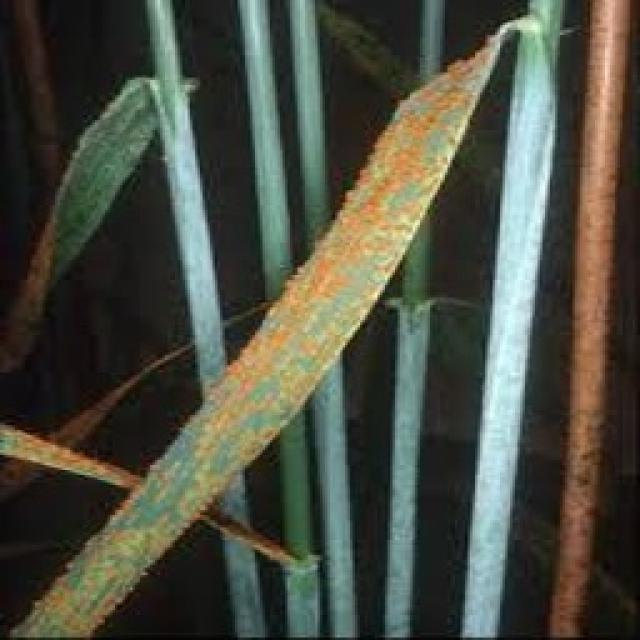Yellow Rust: (0, 28, 505, 638)
